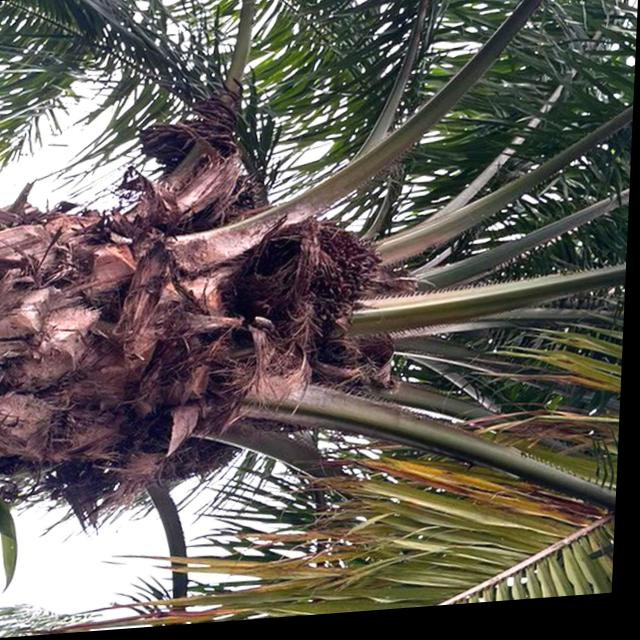ripe: (250, 209, 391, 358)
